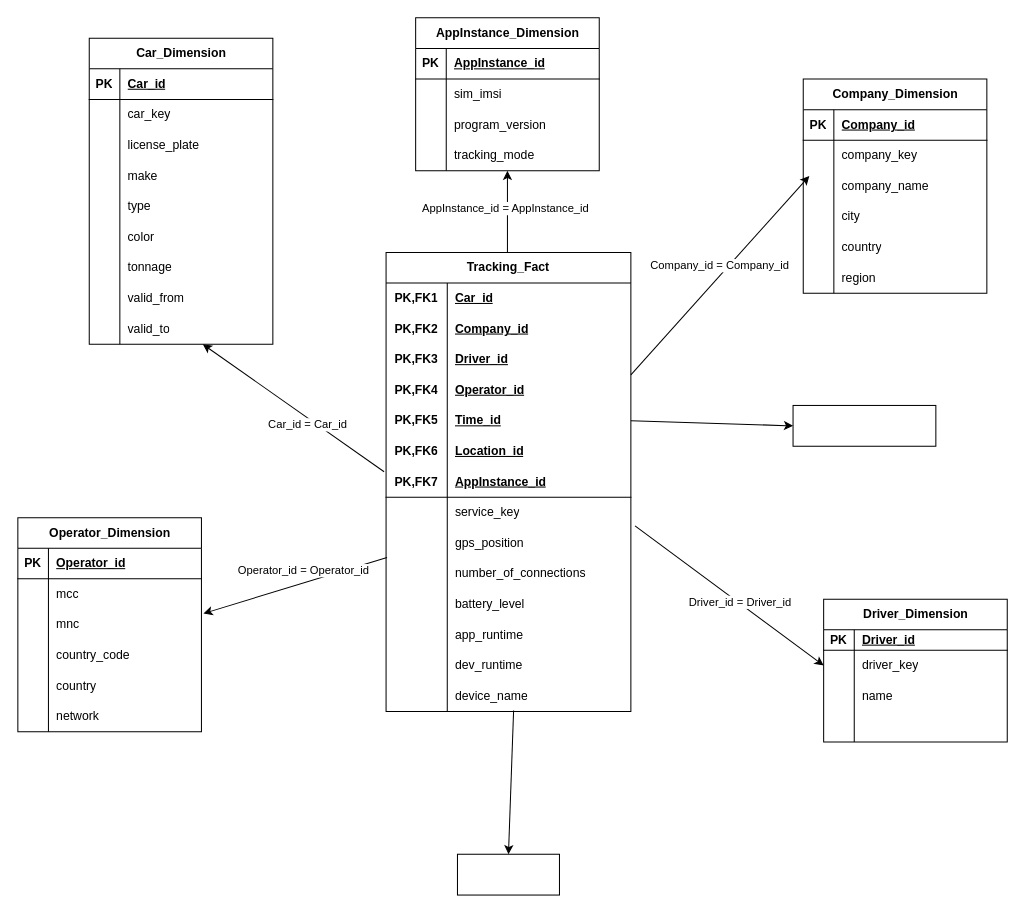
This 1025x913 diagram has some shape labels left out. Each missing label, with the centre of its shape:
"Location_Dimension" belongs at point (864, 425).
"Time_Dimension" belongs at point (507, 874).
